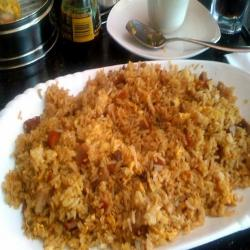rice: (40, 83, 206, 215)
